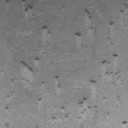oxide scale of temperature system: (61, 53, 121, 124), (12, 56, 61, 104), (74, 8, 115, 46), (21, 0, 34, 22), (41, 25, 51, 43), (122, 120, 128, 128), (5, 106, 8, 114)
